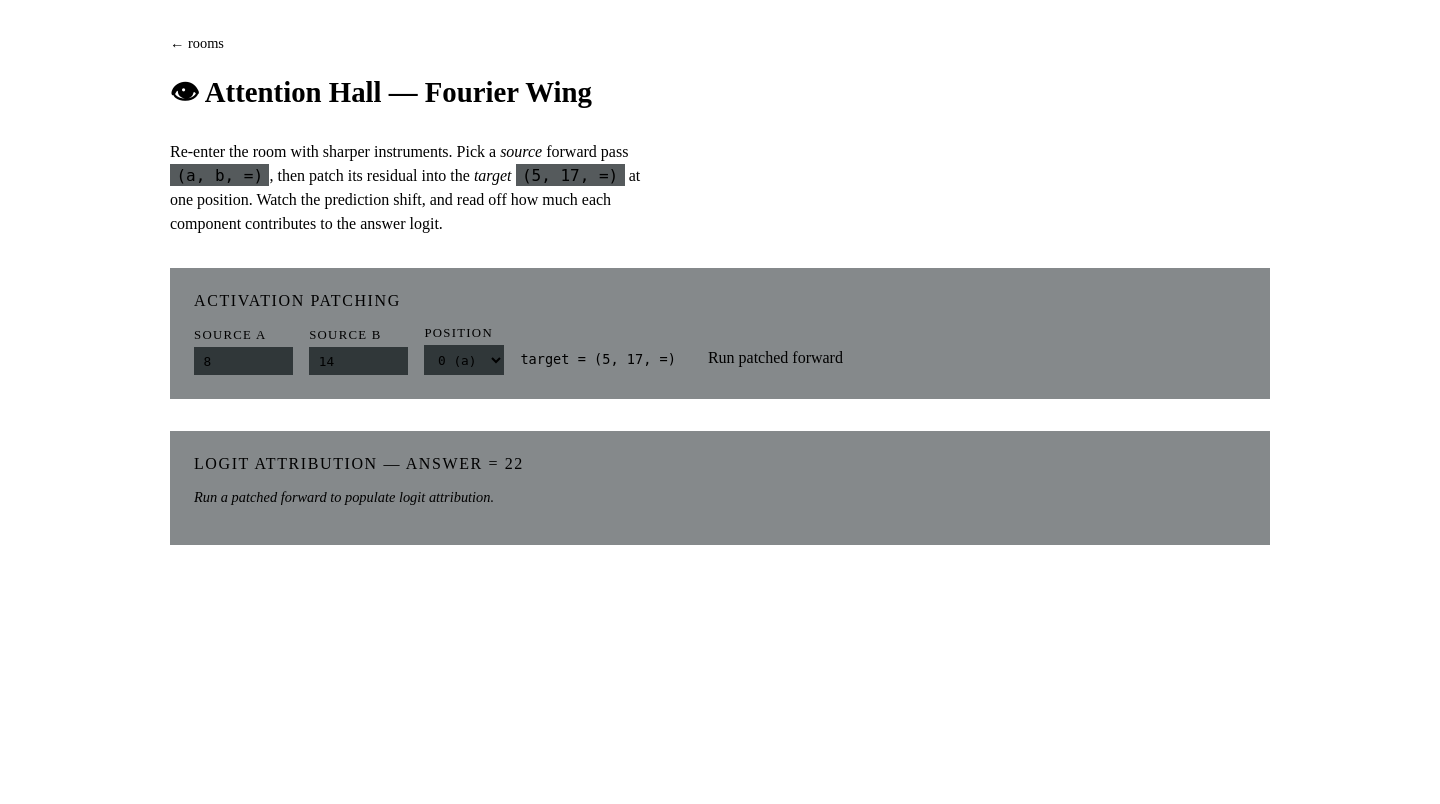
Fourier Wing — Attention Hall › logit-attribution panel renders three numeric values when W_U is present
Step 1. Click the button "Run patched forward" → (775, 358), box [692,341,859,375]
(page scrolled)
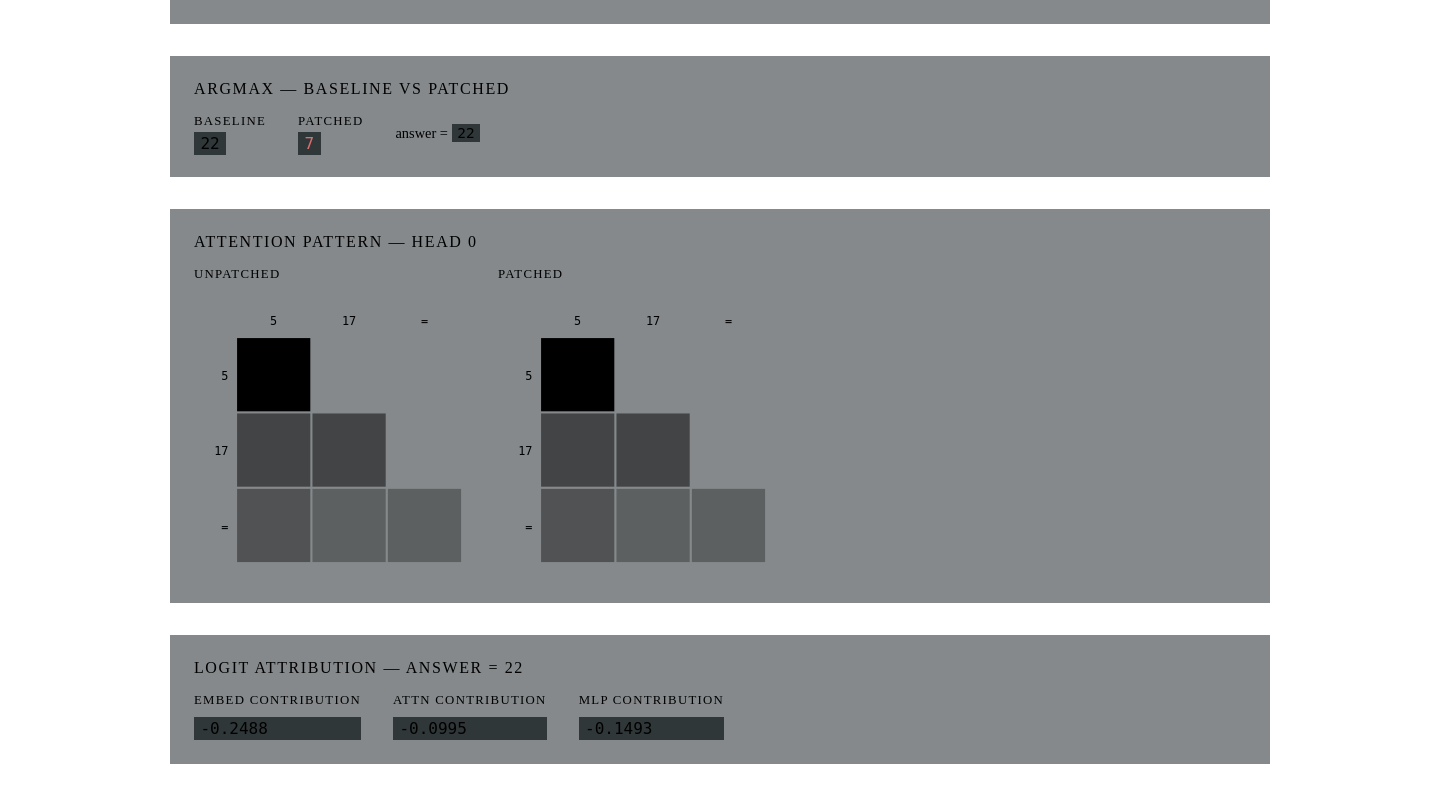
Expected: the text "-0.2488" is shown, [194,717,361,740]
Expected: the text "-0.0995" is shown, [393,717,547,740]
Expected: the text "-0.1493" is shown, [579,717,724,740]
